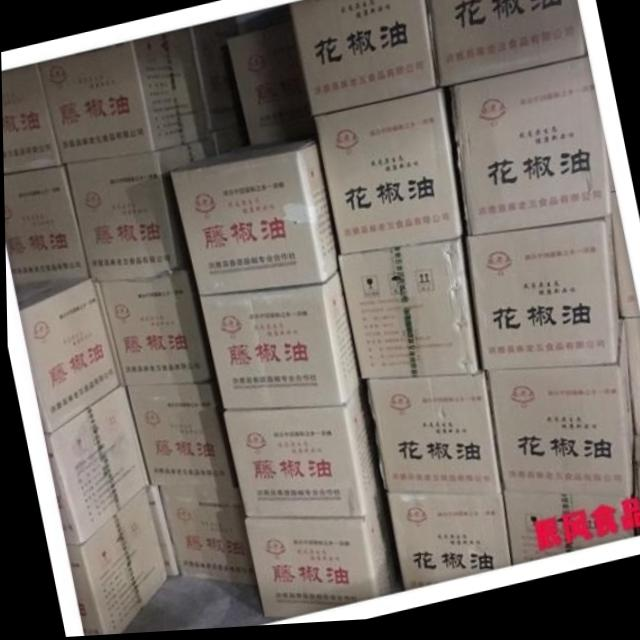box: (449, 62, 611, 241), (485, 324, 633, 503), (171, 143, 339, 298), (313, 92, 462, 258), (39, 29, 211, 166), (465, 222, 617, 374), (200, 274, 361, 413), (222, 386, 384, 521), (64, 139, 215, 281), (240, 490, 402, 620), (336, 245, 478, 383), (289, 0, 436, 120), (41, 387, 147, 546), (364, 372, 498, 497), (12, 280, 117, 431), (64, 488, 165, 637), (425, 0, 586, 92), (98, 269, 209, 387), (385, 495, 507, 595), (225, 26, 316, 152), (125, 385, 231, 491), (155, 485, 256, 588), (3, 165, 88, 287), (498, 497, 631, 571), (1, 63, 62, 175), (189, 17, 244, 132), (609, 199, 639, 325), (145, 485, 178, 578), (622, 323, 640, 441), (631, 442, 640, 504), (631, 504, 640, 543)
